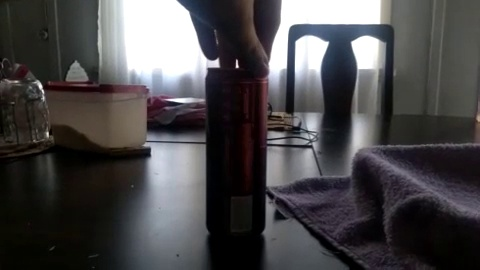duplo_malte: (186, 54, 283, 262)
